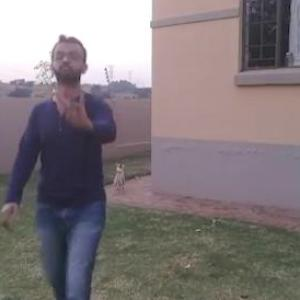takeoff-hand: (54, 79, 92, 128)
